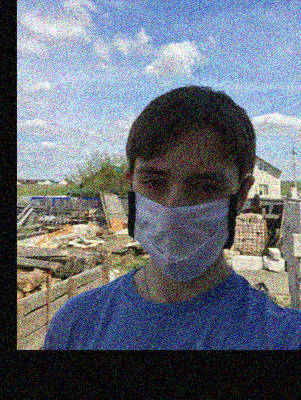with_mask: (126, 149, 239, 283)
